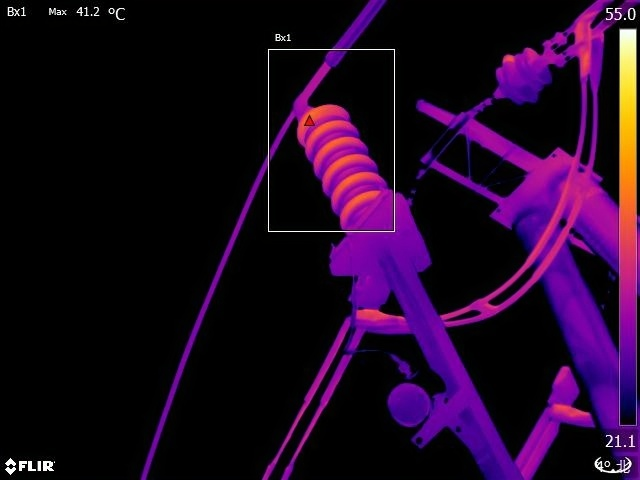clamp: (569, 7, 610, 68)
insulator: (473, 40, 565, 103)
post insulator: (286, 88, 408, 236)
